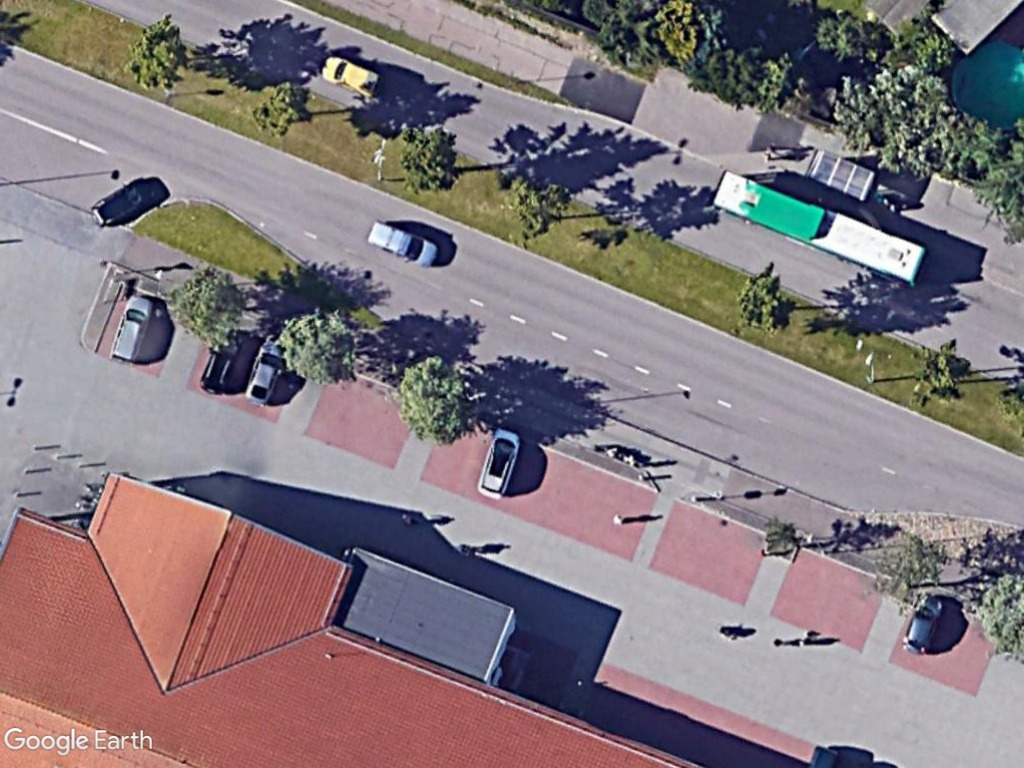bus: (706, 166, 935, 290)
car: (361, 214, 450, 272), (471, 425, 524, 500), (897, 588, 950, 660), (107, 292, 157, 367), (316, 50, 388, 101), (244, 334, 291, 408)
